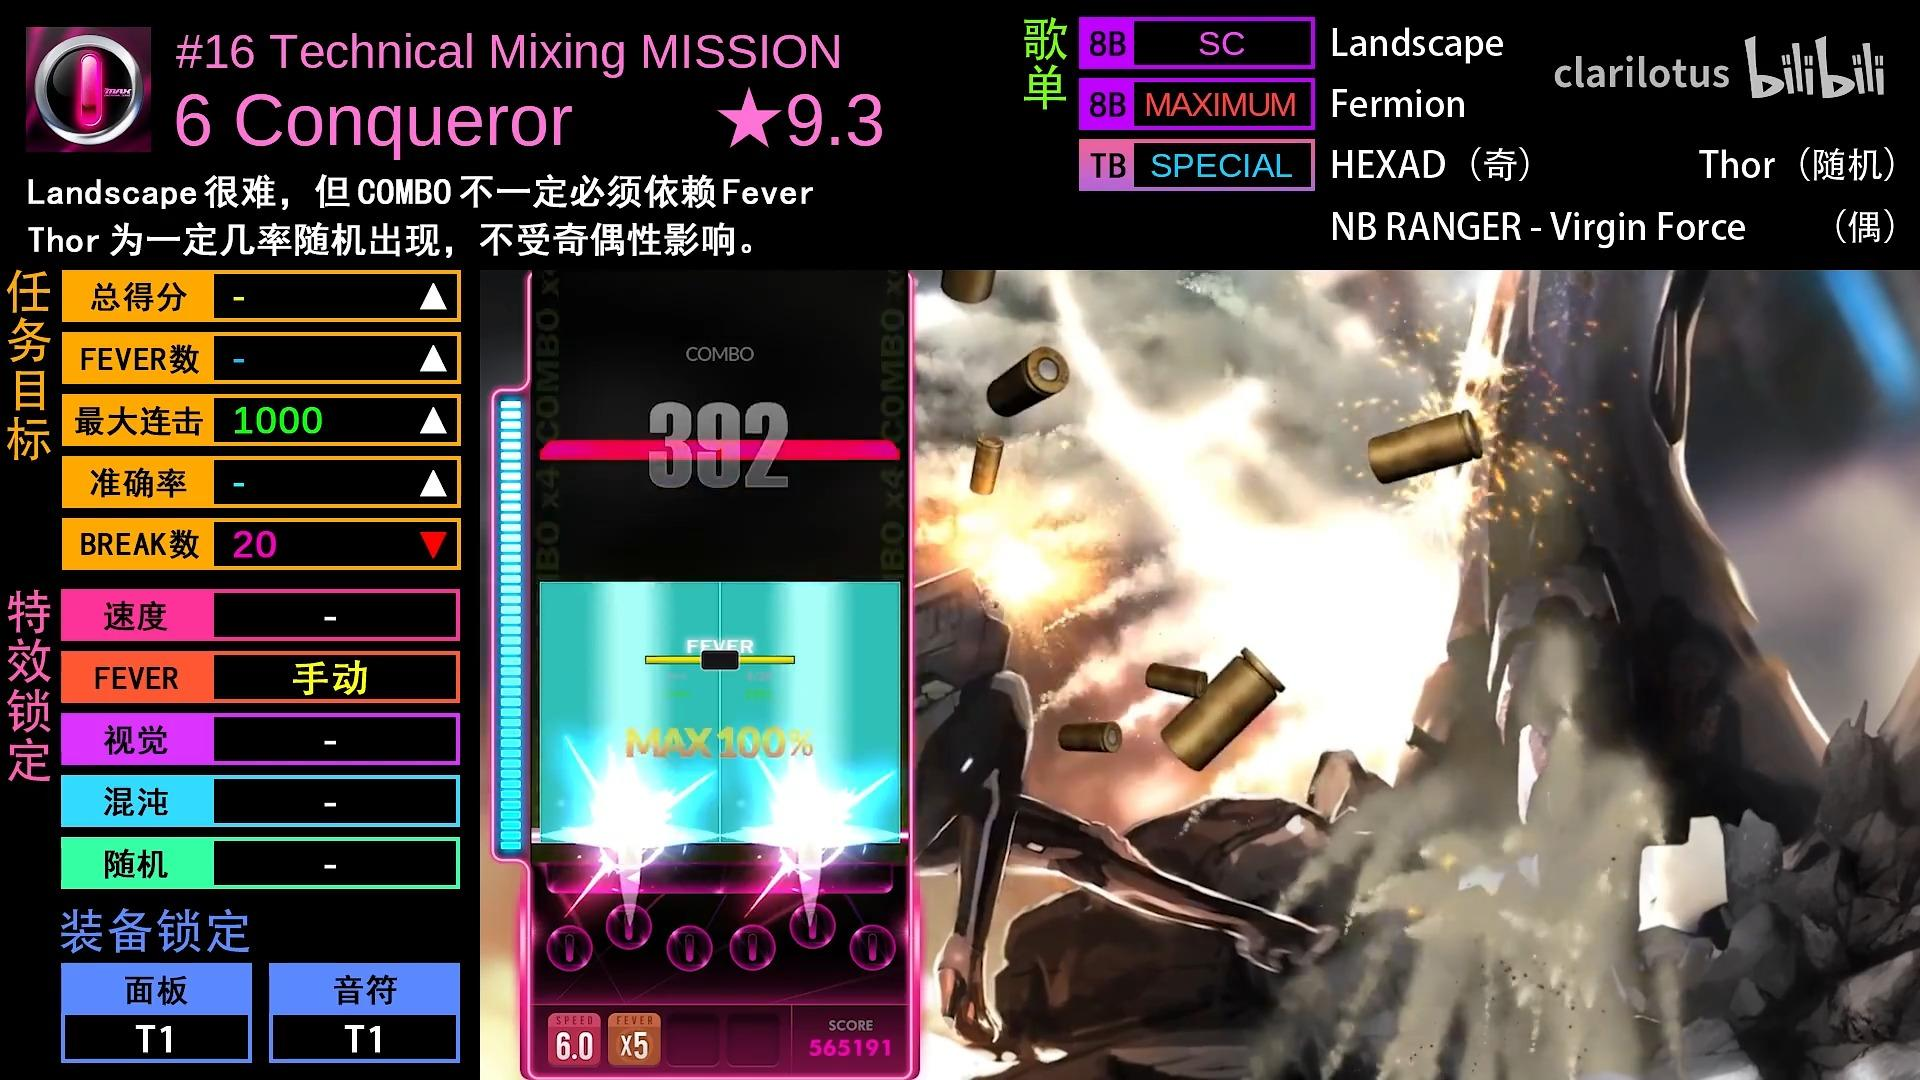side-end: (720, 582, 901, 600), (541, 582, 720, 600)
xnote: (539, 439, 721, 460), (723, 439, 899, 460)
